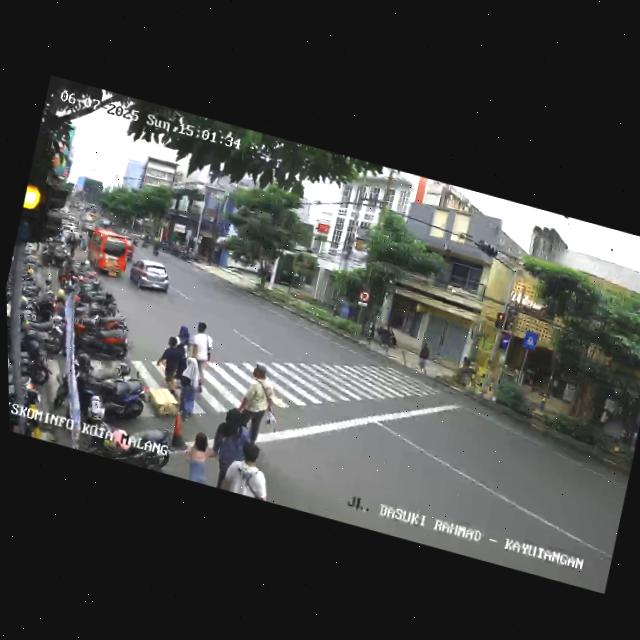car: (77, 224, 133, 282), (124, 253, 175, 300)
person: (203, 404, 260, 496), (229, 359, 286, 449), (219, 437, 279, 501), (178, 427, 224, 486), (172, 354, 210, 425), (150, 332, 188, 390), (183, 320, 215, 382), (170, 320, 193, 358), (414, 340, 433, 375)
